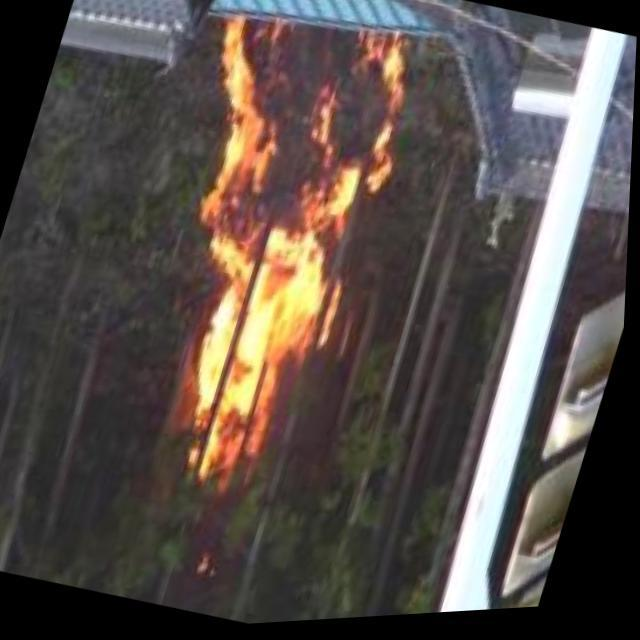fire: (106, 5, 422, 535)
